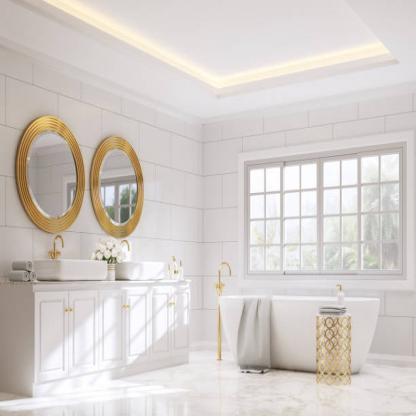Cabinet: (33, 281, 190, 396)
Window: (241, 143, 409, 278)
